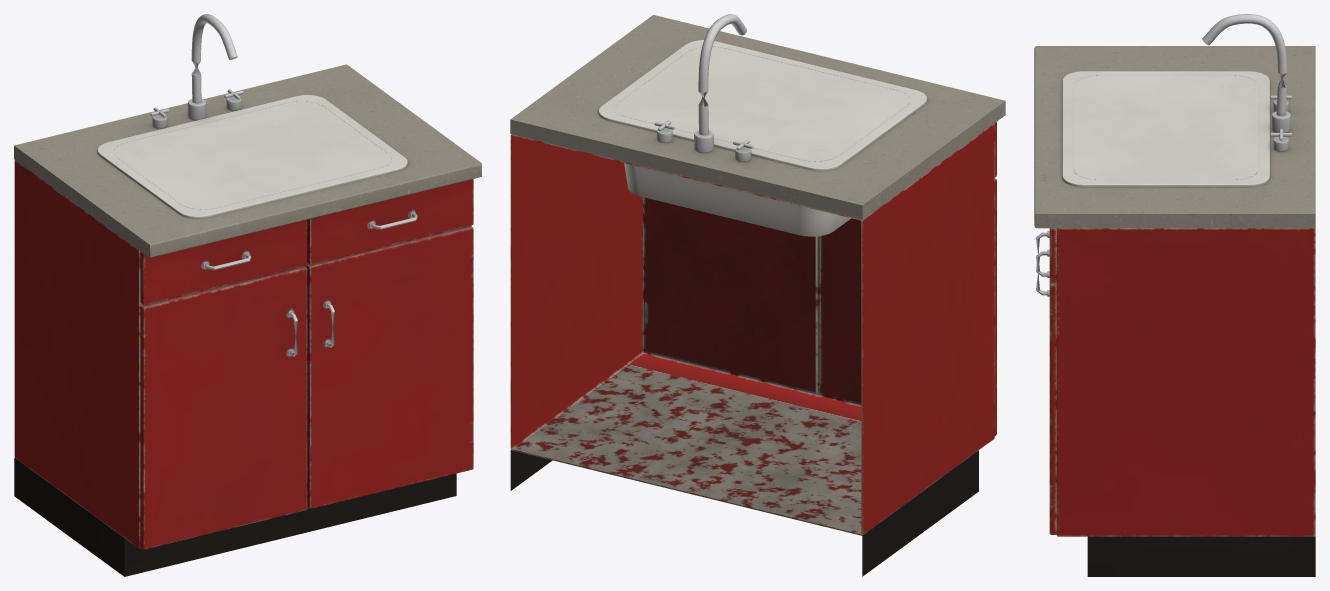
The model's file is kit_sink_90_red.glb.
3 renders of one model, left to right at view 1: azimuth 30°, elevation 25°; view 2: azimuth 150°, elevation 25°; view 3: azimuth 270°, elevation 25°, orthographic. The views are drawn at different scales.
Parts seen in each view (by area): view 1: kit_sink_90_red; view 2: kit_sink_90_red; view 3: kit_sink_90_red.
Part boxes in pixels (x1=…): kit_sink_90_red: x1=14, y1=14, x2=481, y2=576; kit_sink_90_red: x1=510, y1=14, x2=1005, y2=576; kit_sink_90_red: x1=1034, y1=14, x2=1315, y2=576.
Bounding box in the file's own units: 0.8981 × 1.19 × 0.635.
1 material, 1 textured.
